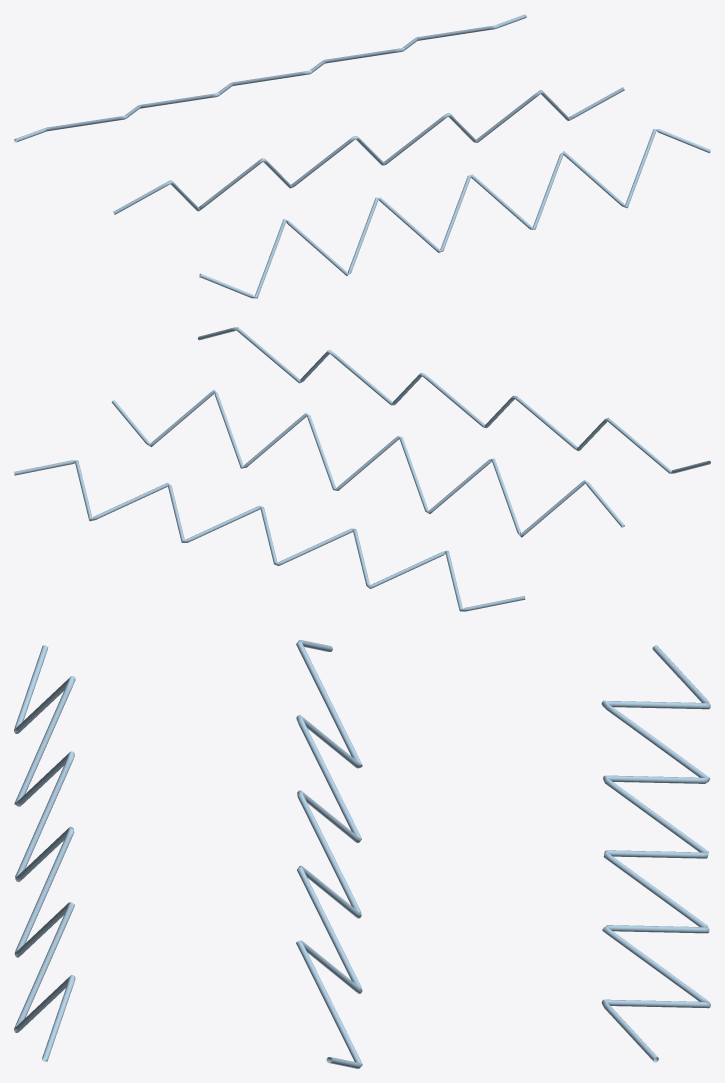
The model's file is jp_fil1.fbx.
3 views of the same model, one above another, from view 1: azimuth 30°, elevation 25°; view 2: azimuth 150°, elevation 25°; view 3: azimuth 270°, elevation 25° (orthographic). The views are drawn at different scales.
Parts seen in each view (by area): view 1: sweep2, sweep1, sweep3; view 2: sweep1, sweep3, sweep2; view 3: sweep3, sweep2, sweep1.
Part boxes in pixels (bbox=[...]): sweep2: bbox=[199, 129, 710, 298]; sweep1: bbox=[113, 87, 624, 214]; sweep3: bbox=[14, 14, 526, 142]; sweep1: bbox=[111, 389, 624, 537]; sweep3: bbox=[14, 460, 525, 611]; sweep2: bbox=[198, 327, 710, 473]; sweep3: bbox=[601, 645, 710, 1062]; sweep2: bbox=[14, 645, 75, 1061]; sweep1: bbox=[296, 640, 362, 1068].
Bounding box in the file's own units: 7.37 × 0.7822 × 5.26.
